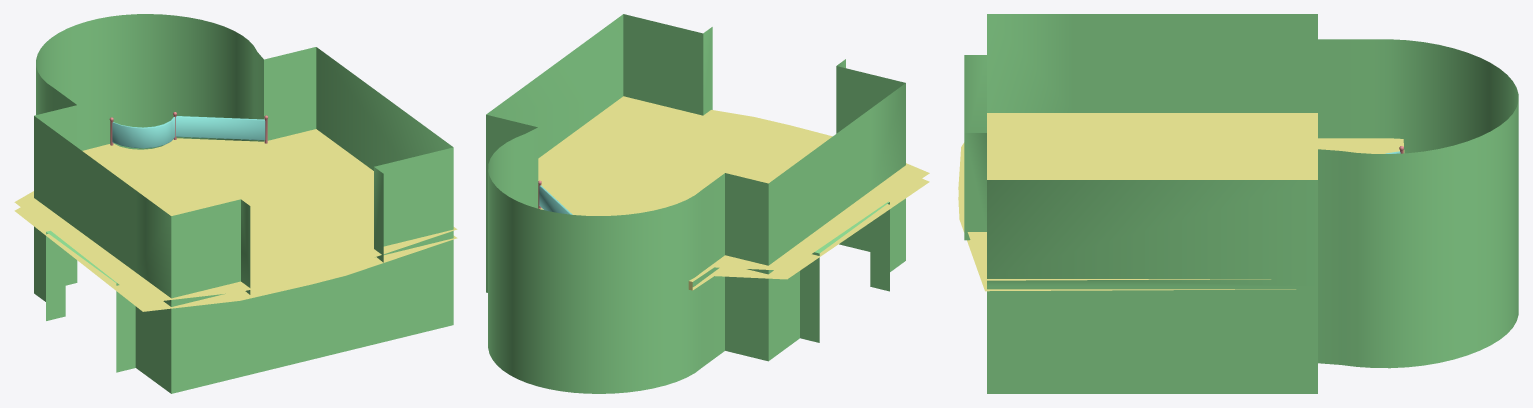
The model's file is Room.FBX.
3 views of the same model, side by side, from view 1: azimuth 30°, elevation 25°; view 2: azimuth 150°, elevation 25°; view 3: azimuth 270°, elevation 25° (orthographic). The views are drawn at different scales.
Parts seen in each view (by area): view 1: Cylinder002; view 2: Cylinder002; view 3: Cylinder002.
Part boxes in pixels (x1=…): Cylinder002: x1=14, y1=14, x2=457, y2=393; Cylinder002: x1=486, y1=14, x2=929, y2=393; Cylinder002: x1=958, y1=14, x2=1518, y2=393.
Size of the model in its own units: 13.88 by 7.56 by 17.94.
